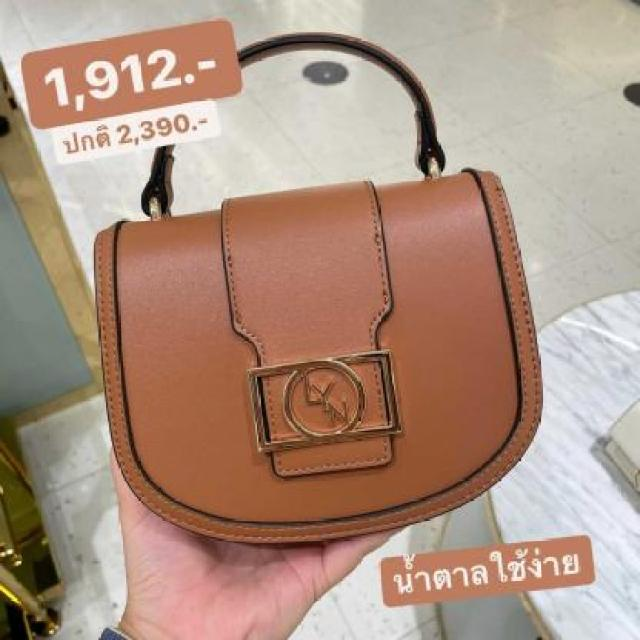Bag: (0, 8, 592, 559)
